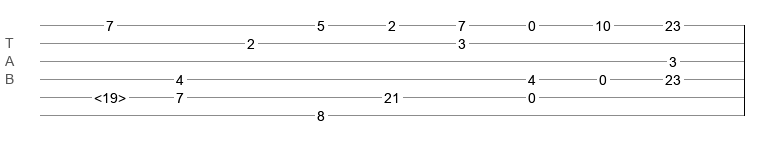0: (528, 90, 536, 100), (528, 18, 536, 28), (599, 72, 607, 82)
10: (595, 18, 611, 28)
2: (247, 36, 255, 46), (388, 18, 396, 28)
21: (384, 90, 400, 100)
23: (665, 18, 681, 28), (665, 72, 681, 82)
3: (458, 36, 466, 46), (669, 54, 677, 64)
4: (176, 72, 184, 82), (528, 72, 536, 82)
5: (317, 18, 325, 28)
7: (106, 18, 114, 28), (176, 90, 184, 100), (458, 18, 466, 28)
8: (317, 108, 325, 118)
harmonic: (94, 90, 126, 100)
